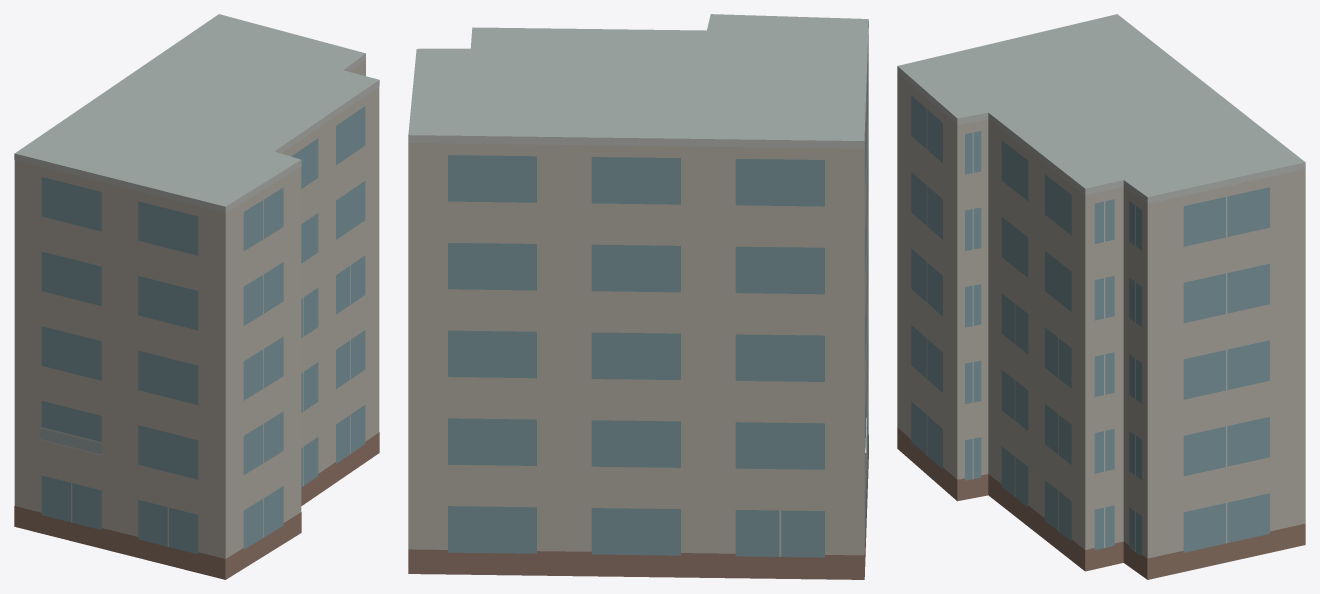
Rendered from survey-upis-32618971.glb.
3 views of the same model, side by side, from view 1: azimuth 30°, elevation 25°; view 2: azimuth 150°, elevation 25°; view 3: azimuth 270°, elevation 25° (orthographic). The views are drawn at different scales.
Visible parts, largest first — view 1: survey-upis-32618971.tmp; view 2: survey-upis-32618971.tmp; view 3: survey-upis-32618971.tmp.
Boxes of the visible parts, x1,y1,x2,y2 form: survey-upis-32618971.tmp: [14, 14, 379, 579]; survey-upis-32618971.tmp: [408, 14, 868, 579]; survey-upis-32618971.tmp: [897, 14, 1305, 579].
Bounding box in the file's own units: 14.28 × 13.9 × 13.45.
